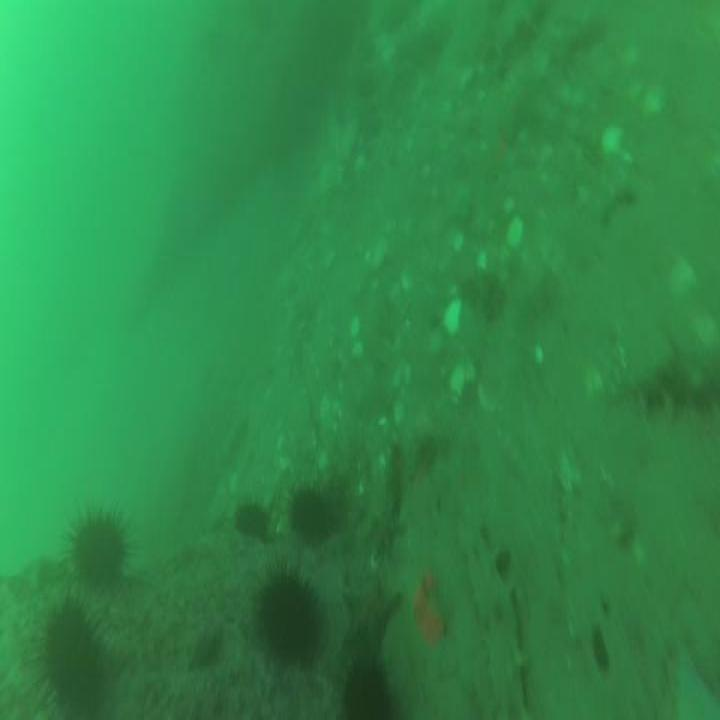echinus: (42, 608, 102, 718), (261, 574, 319, 662), (72, 521, 125, 583), (345, 661, 387, 720), (289, 490, 329, 546), (234, 502, 266, 542)
holothurian: (458, 524, 531, 720), (631, 348, 720, 414), (373, 446, 404, 562)
scallop: (340, 565, 400, 649)
